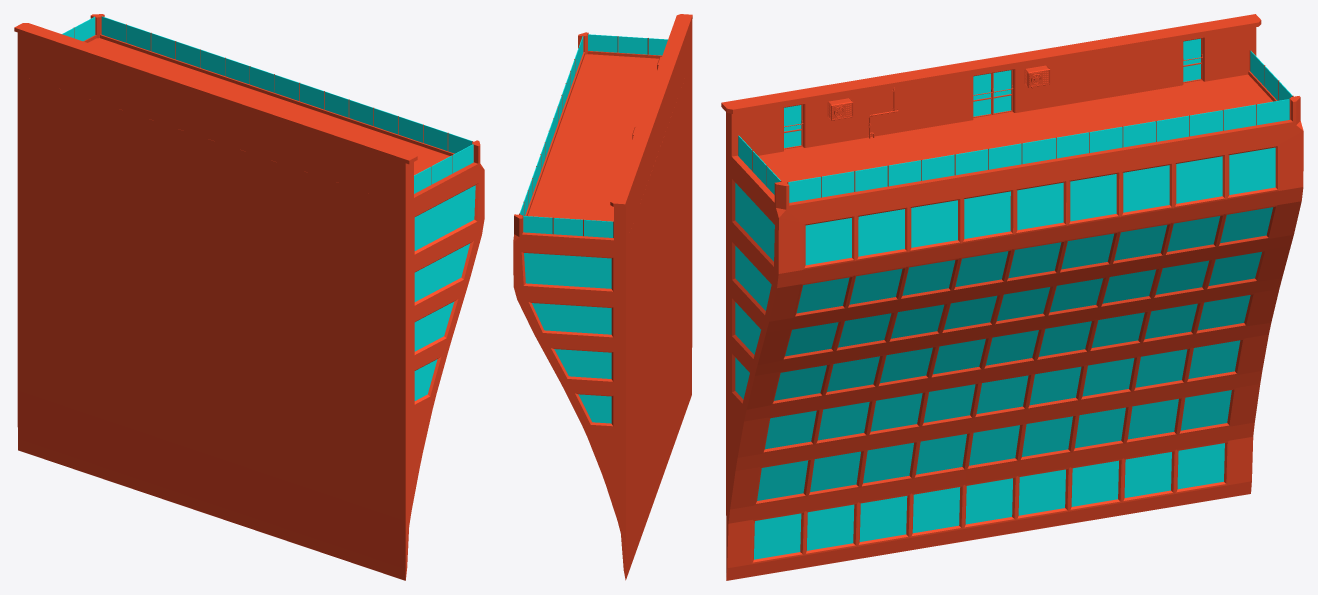
File: SM_Skyscraper_C_Balcony_A_City.fbx
The picture shows the model from 3 angles, left to right: view 1: azimuth 30°, elevation 25°; view 2: azimuth 150°, elevation 25°; view 3: azimuth 270°, elevation 25°; orthographic projection. The views are drawn at different scales.
Parts seen in each view (by area): view 1: SM_Skyscraper_C_Balcony_A_City; view 2: SM_Skyscraper_C_Balcony_A_City; view 3: SM_Skyscraper_C_Balcony_A_City.
Boxes of the visible parts, left/top/right/bottom form: SM_Skyscraper_C_Balcony_A_City: left=14, top=14, right=484, bottom=580; SM_Skyscraper_C_Balcony_A_City: left=513, top=14, right=692, bottom=580; SM_Skyscraper_C_Balcony_A_City: left=721, top=14, right=1303, bottom=580.
Bounding box in the file's own units: 15.6 × 24.09 × 26.54.
